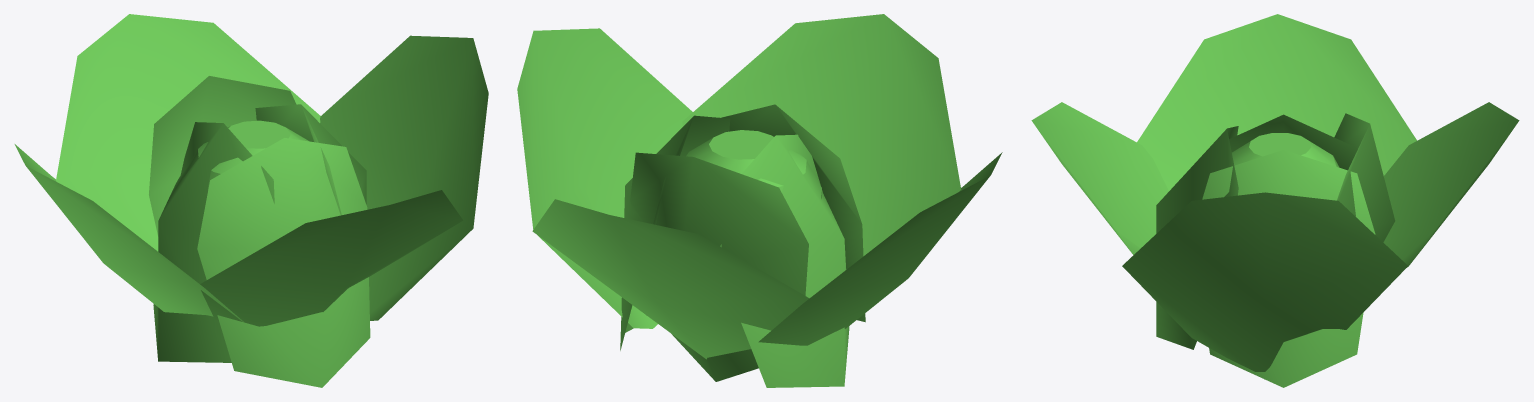
The model's file is Lettuce_Growing.fbx.
3 renders of one model, left to right at view 1: azimuth 30°, elevation 25°; view 2: azimuth 150°, elevation 25°; view 3: azimuth 270°, elevation 25°, orthographic. The views are drawn at different scales.
Visible parts, largest first — view 1: lettece_Growing; view 2: lettece_Growing; view 3: lettece_Growing.
Part boxes in pixels (left/top/right/bottom): lettece_Growing: left=14, top=14, right=488, bottom=387; lettece_Growing: left=517, top=14, right=1002, bottom=387; lettece_Growing: left=1031, top=14, right=1519, bottom=387.
Bounding box in the file's own units: 0.9293 × 0.5183 × 0.9511.
